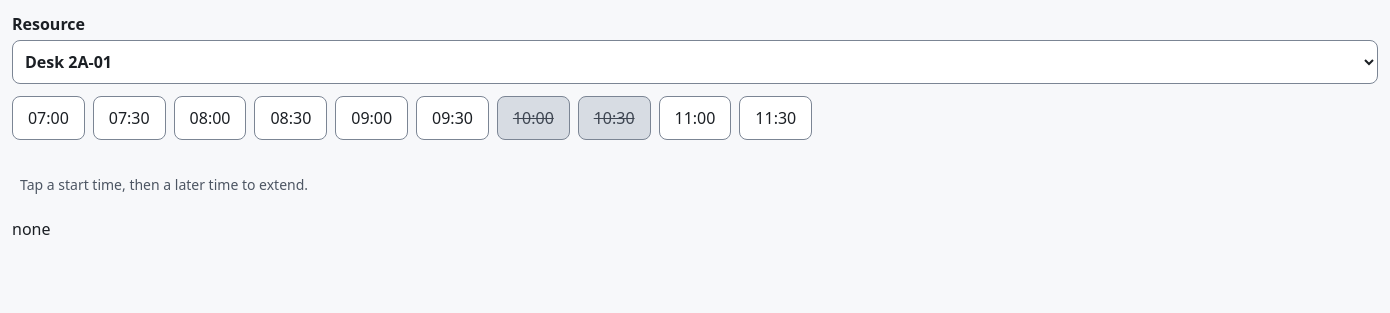
Scenario: SlotGrid › switches to a single-resource chip list under 640 px (matchMedia stub)
Expected: the dropdown labelled "Resource" is shown, [12,40,1378,84]
Expected: the button named "10:00 to 10:30, booked" is disabled, [497,96,570,140]
Click the button named "08:00 to 08:30": (210, 118) [174,96,246,140]
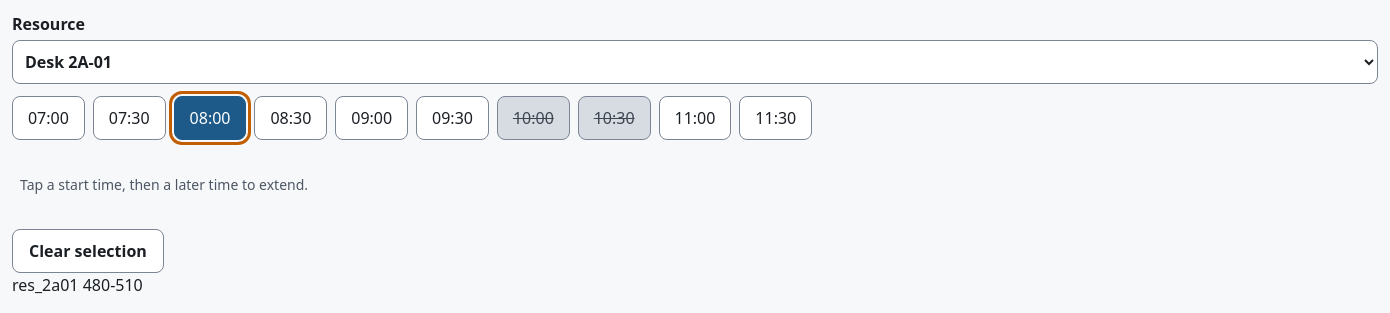
Click the button named "09:00 to 09:30": (372, 118) [335,96,408,140]
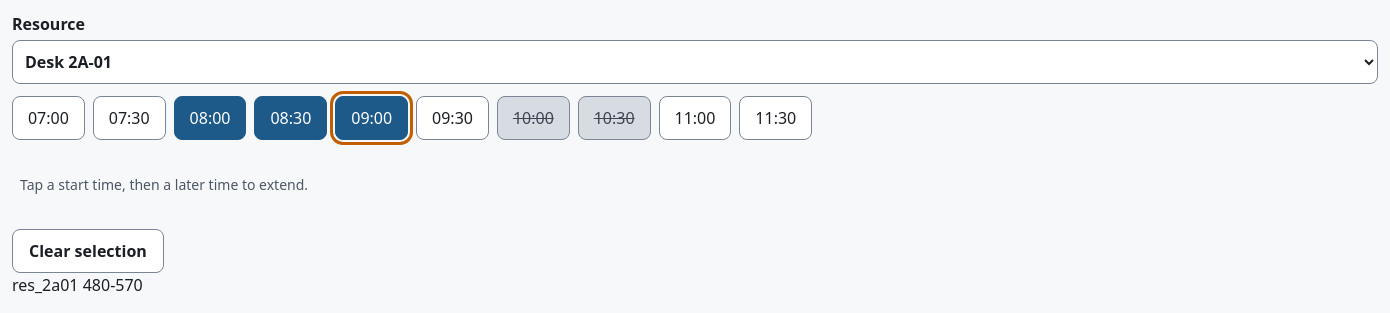
Result: the text with test id "sel" reads "res_2a01 480-570" at [12,274,143,296]
Select "Desk 2A-02" in the dropdown: (695, 62) [12,40,1378,84]
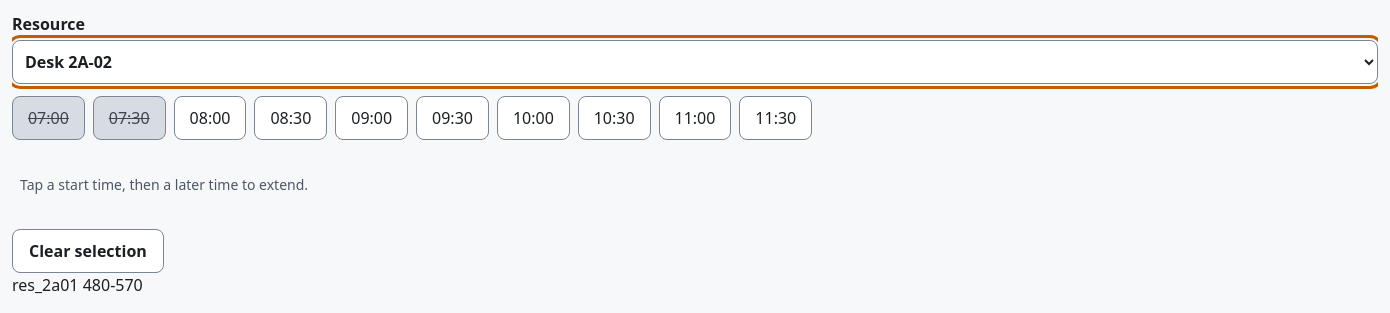
Result: the button named "07:00 to 07:30, your booking" is shown at [12,96,85,140]
